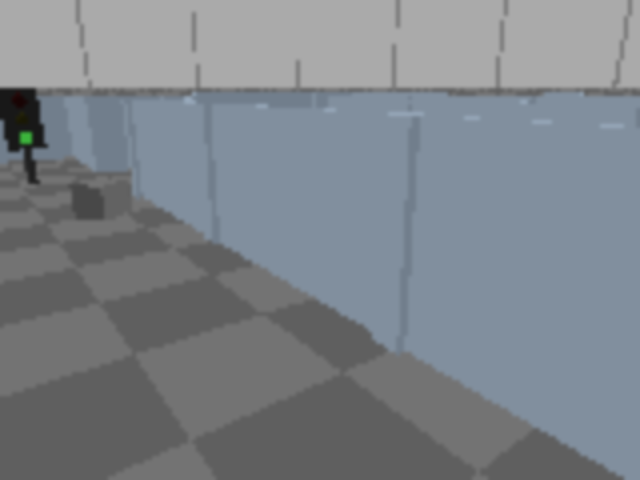traffic_light: (0, 83, 53, 189)
